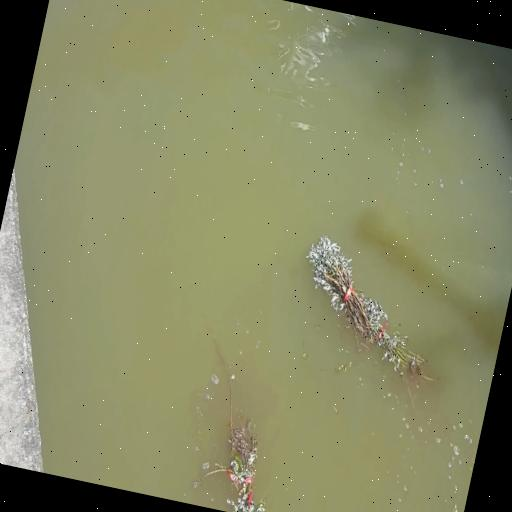twig: (306, 235, 430, 379), (204, 417, 265, 512)
